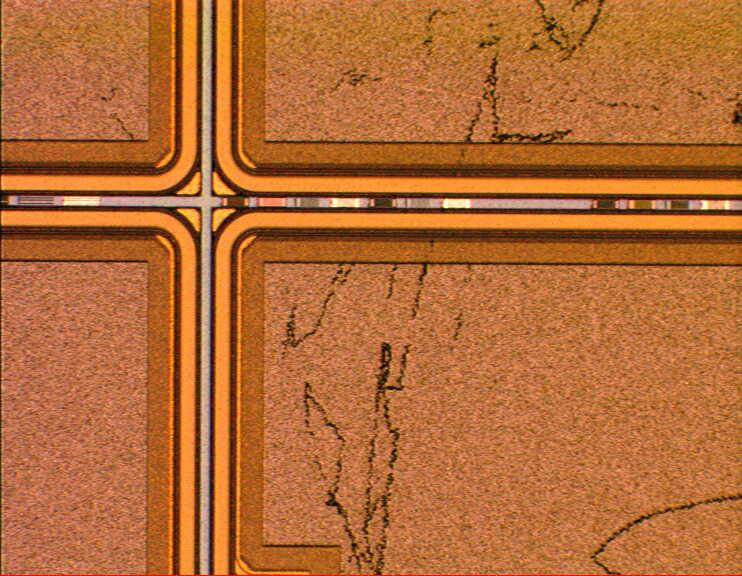SCRATCH: (94, 1, 742, 576)
